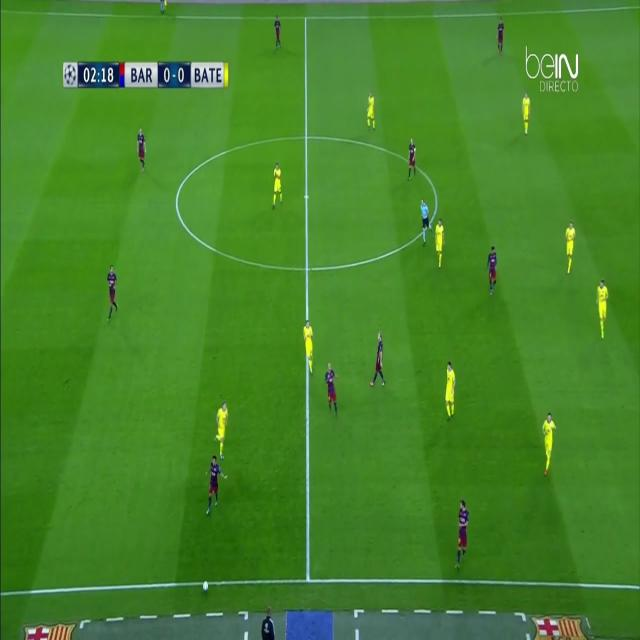Ball: (200, 579, 210, 594)
Player: (202, 455, 229, 519), (452, 498, 471, 573), (367, 330, 387, 391), (541, 411, 558, 480), (104, 262, 120, 325), (268, 159, 285, 217), (595, 278, 610, 342), (323, 361, 340, 417), (443, 363, 459, 421), (215, 398, 230, 458), (302, 316, 317, 376), (564, 220, 578, 278), (485, 244, 500, 297), (434, 216, 447, 270), (520, 91, 533, 140), (135, 128, 147, 178), (364, 90, 378, 132), (494, 12, 506, 58), (406, 136, 417, 182), (271, 13, 283, 52)
Referee: (419, 198, 435, 249)
